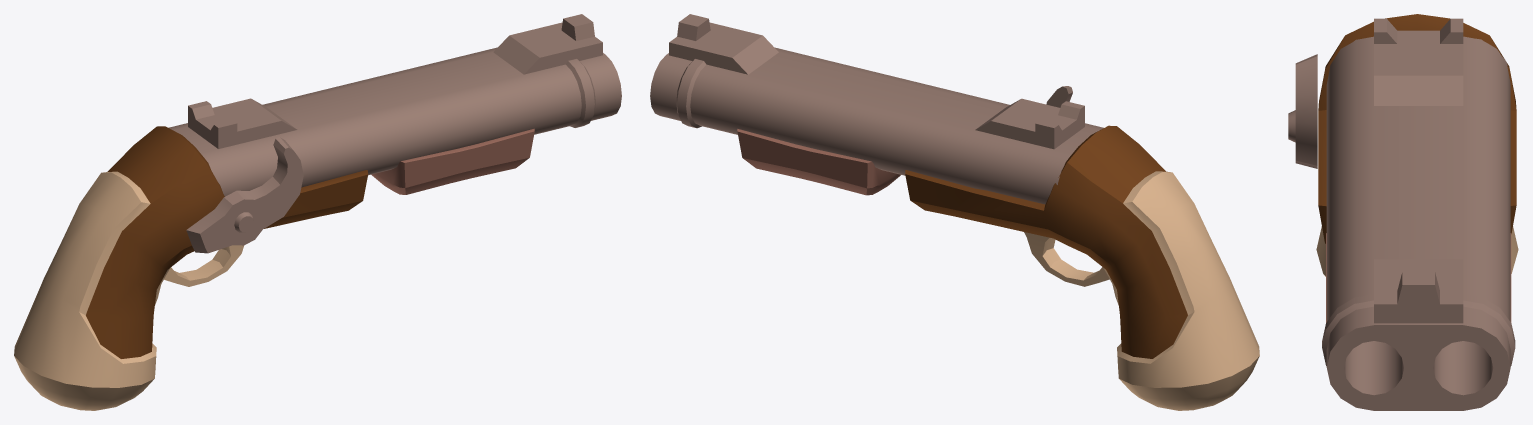
The model's file is quaternius-pirate-weapon-doubleshotgun.glb.
3 renders of one model, left to right at view 1: azimuth 30°, elevation 25°; view 2: azimuth 150°, elevation 25°; view 3: azimuth 270°, elevation 25°, orthographic. The views are drawn at different scales.
Visible parts, largest first — view 1: Weapon_DoubleShotgun; view 2: Weapon_DoubleShotgun; view 3: Weapon_DoubleShotgun.
Part boxes in pixels (x1=…): Weapon_DoubleShotgun: x1=14, y1=14, x2=621, y2=410; Weapon_DoubleShotgun: x1=650, y1=14, x2=1259, y2=410; Weapon_DoubleShotgun: x1=1288, y1=14, x2=1518, y2=410.
Size of the model in its own units: 1.58 by 0.6987 by 0.3803.
1 material, 1 textured.
